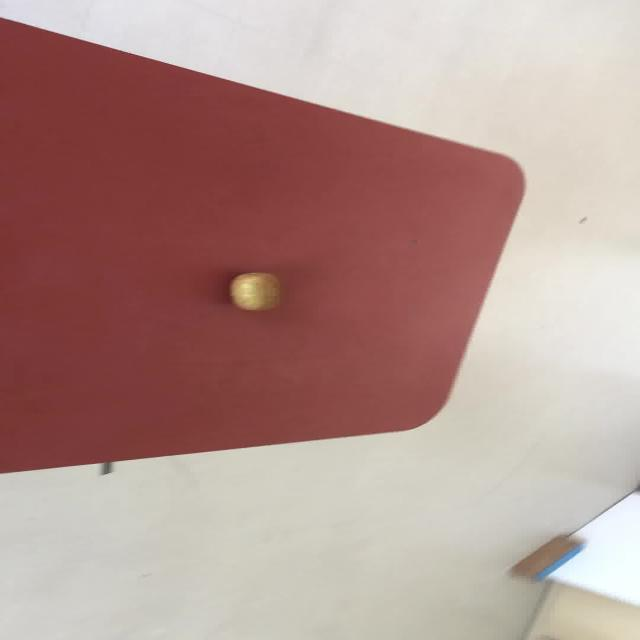kiwi: (228, 272, 278, 311)
